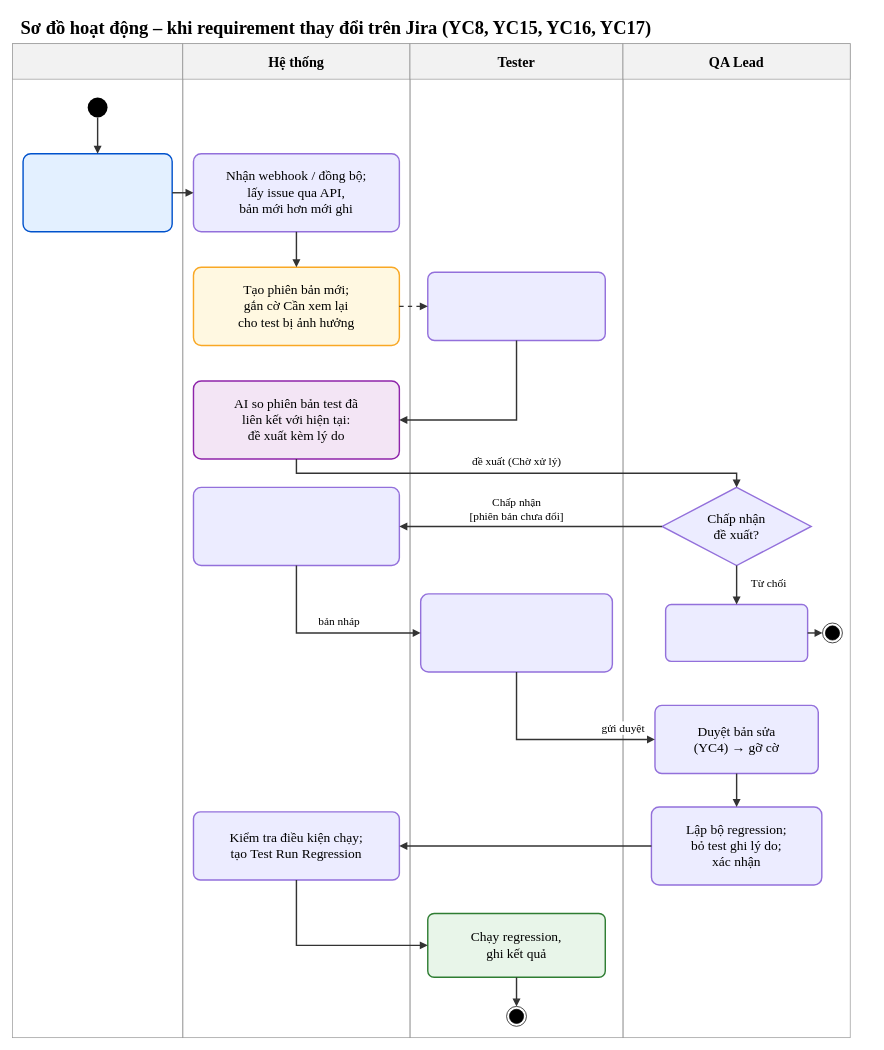
The diagram is 884 pixels wide and 1050 high, and some of its shapes have lost their labels. The centre of each missing label's shape, as x and y in pixels:
"Bấm Phân tích ảnh hưởng (AI)" belongs at (516,306).
"Cần sửa / Còn thiếu: bản nháp; Nên chạy lại: vào bộ regression" belongs at (296,526).
"PO / BA (Jira)" belongs at (97,61).
"Sửa AC, tiêu đề hoặc mô tả trên Jira" belongs at (97,192).
"Test vẫn đúng: Đã xem lại (lý do); cần sửa: sửa, gửi duyệt" belongs at (516,632).
"Từ chối (ghi chú)" belongs at (736,633).
